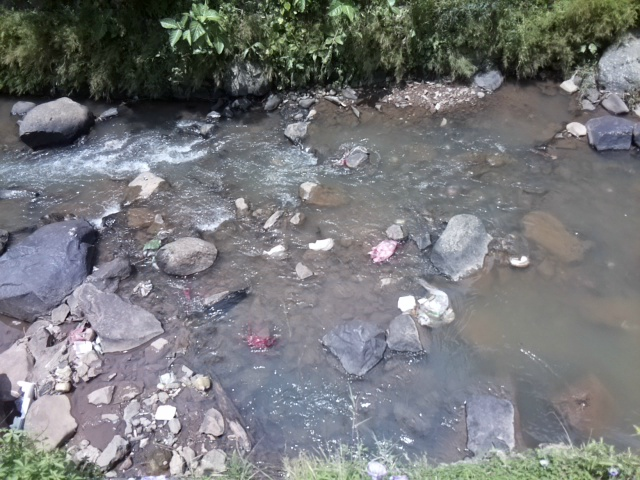Sampah_Plastik: (419, 283, 454, 328), (367, 237, 400, 264), (245, 332, 276, 349), (66, 325, 89, 344)
Sampah_Styrofoam: (153, 403, 179, 422), (397, 295, 418, 311), (307, 240, 335, 250)
